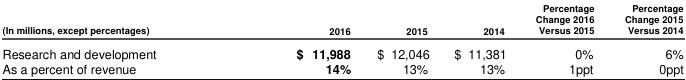table: (1, 1, 682, 77)
table column: (1, 1, 225, 77), (225, 1, 363, 77), (520, 1, 608, 77), (441, 1, 520, 77), (363, 1, 441, 77), (608, 1, 682, 77)
table column header: (1, 1, 682, 40)
table row: (1, 1, 682, 40), (1, 40, 682, 60), (1, 60, 682, 77)
